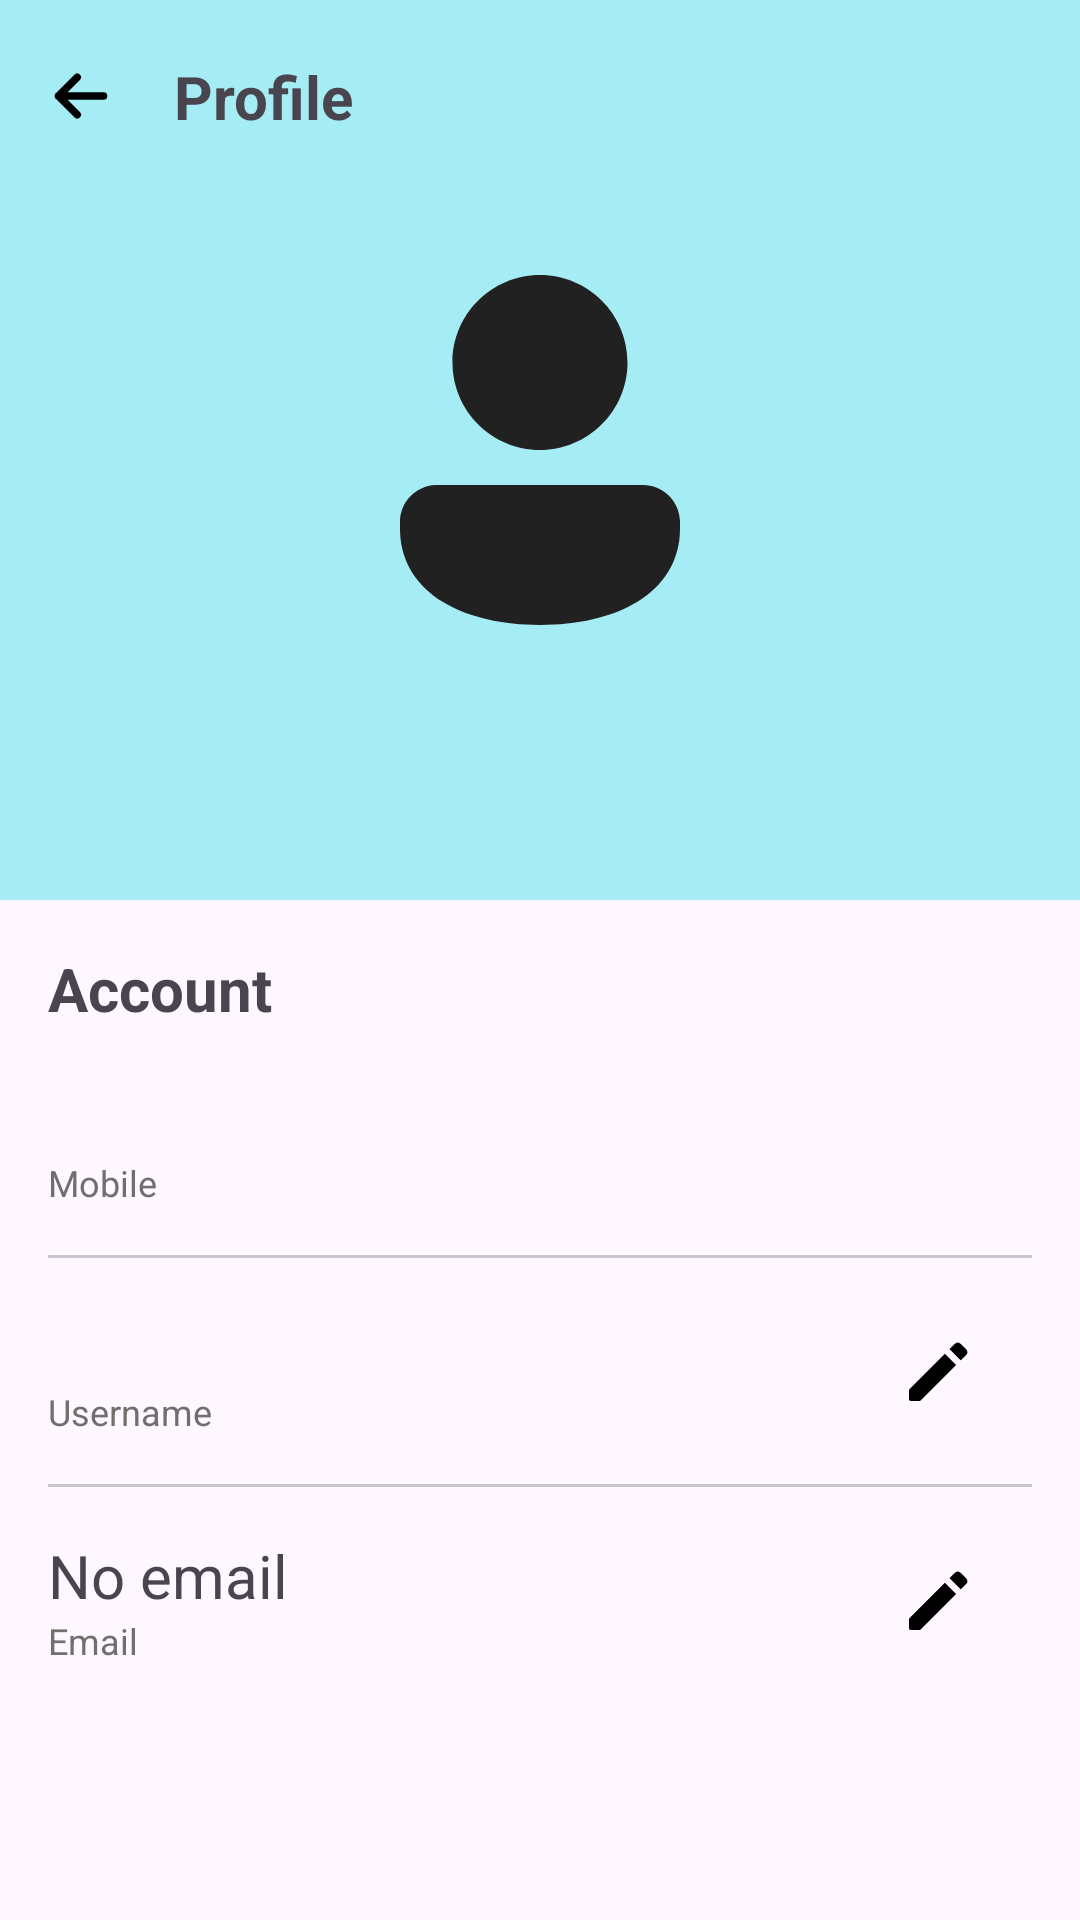

Icons on this 1080×1920 Android screen, each with its box as box=[x1, y1, x2, y2]:
back arrow: box=[54, 73, 108, 119]
edit: box=[909, 1342, 968, 1401], box=[909, 1571, 968, 1630]
